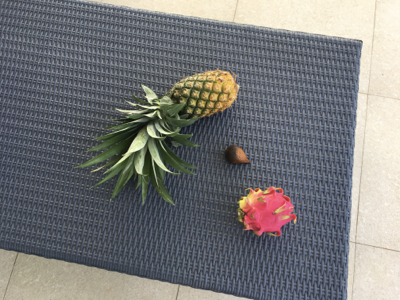dragon fruit: (238, 187, 296, 235)
pineapple: (76, 69, 240, 202)
snake fruit: (226, 144, 251, 169)
